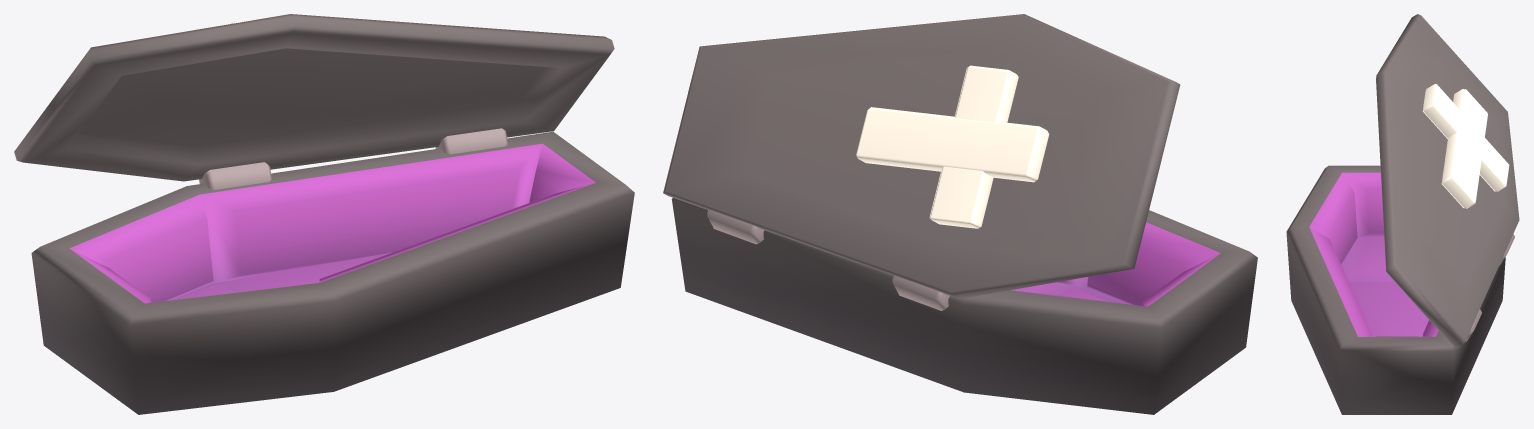
The model's file is coffin01.glb.
3 renders of one model, left to right at view 1: azimuth 30°, elevation 25°; view 2: azimuth 150°, elevation 25°; view 3: azimuth 270°, elevation 25°, orthographic. The views are drawn at different scales.
Visible parts, largest first — view 1: Coffin.01_Open, Coffin.01_Lid; view 2: Coffin.01_Lid, Coffin.01_Open; view 3: Coffin.01_Lid, Coffin.01_Open.
Boxes of the visible parts, x1,y1,x2,y2 form: Coffin.01_Open: (31, 128, 634, 414); Coffin.01_Lid: (14, 14, 614, 181); Coffin.01_Lid: (663, 14, 1180, 298); Coffin.01_Open: (671, 198, 1257, 414); Coffin.01_Lid: (1376, 14, 1519, 348); Coffin.01_Open: (1286, 165, 1514, 414).
Size of the model in its own units: 7.65 by 4.49 by 4.01.
1 material, 1 textured.
